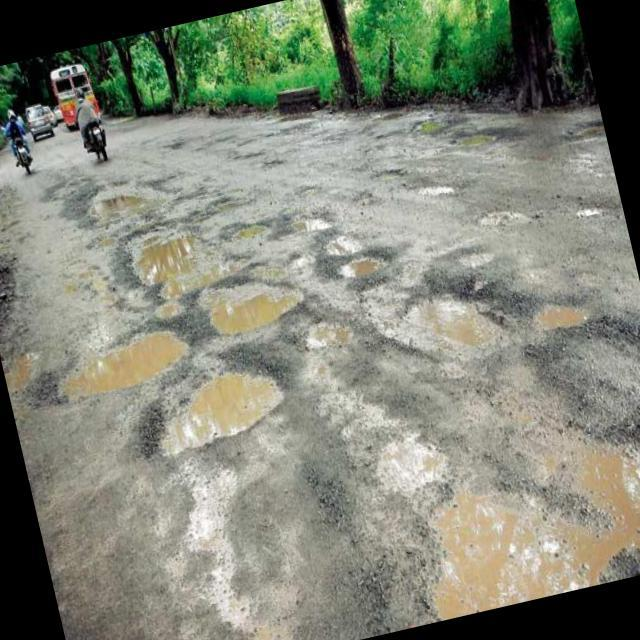Pothole: (362, 380, 640, 629), (112, 355, 330, 480), (180, 250, 351, 374), (395, 266, 556, 396), (44, 318, 202, 399), (204, 196, 307, 278), (399, 164, 510, 233), (444, 109, 546, 180), (125, 226, 202, 319), (288, 310, 392, 370), (66, 165, 168, 226), (472, 198, 557, 256), (527, 291, 618, 340), (396, 104, 483, 142), (0, 338, 56, 392), (568, 176, 624, 228), (544, 111, 607, 154), (347, 160, 422, 192), (238, 152, 306, 186), (220, 142, 290, 170), (221, 136, 265, 152), (196, 136, 244, 148), (162, 137, 184, 153)
